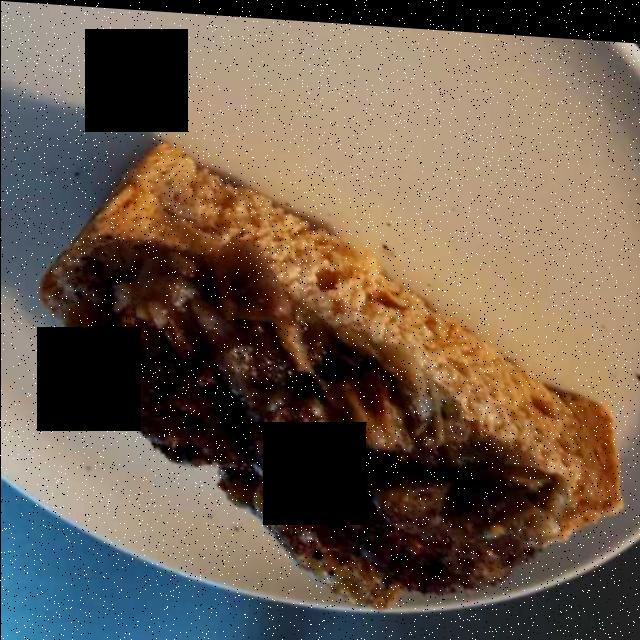bread-wholemeal: (39, 124, 610, 530)
eggplant: (54, 240, 575, 610)
